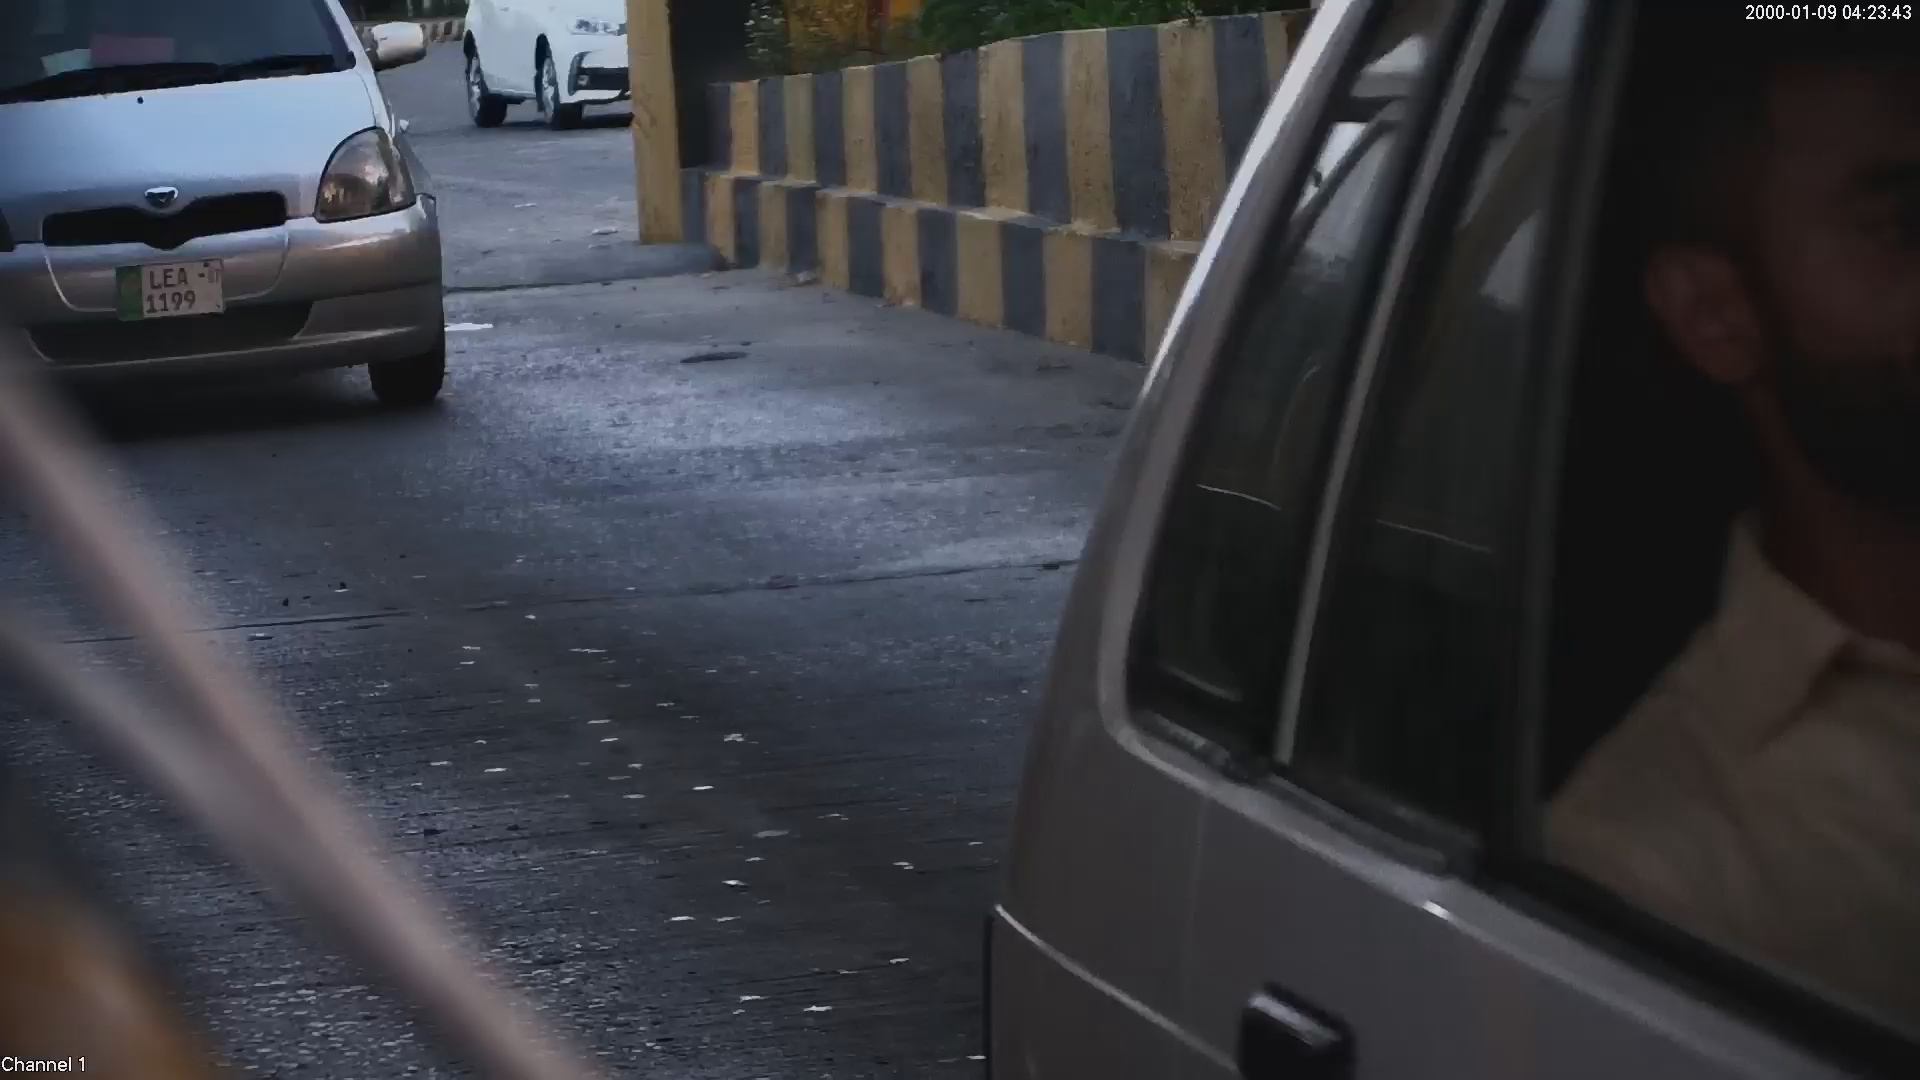Number_Plate: (102, 251, 232, 323)
